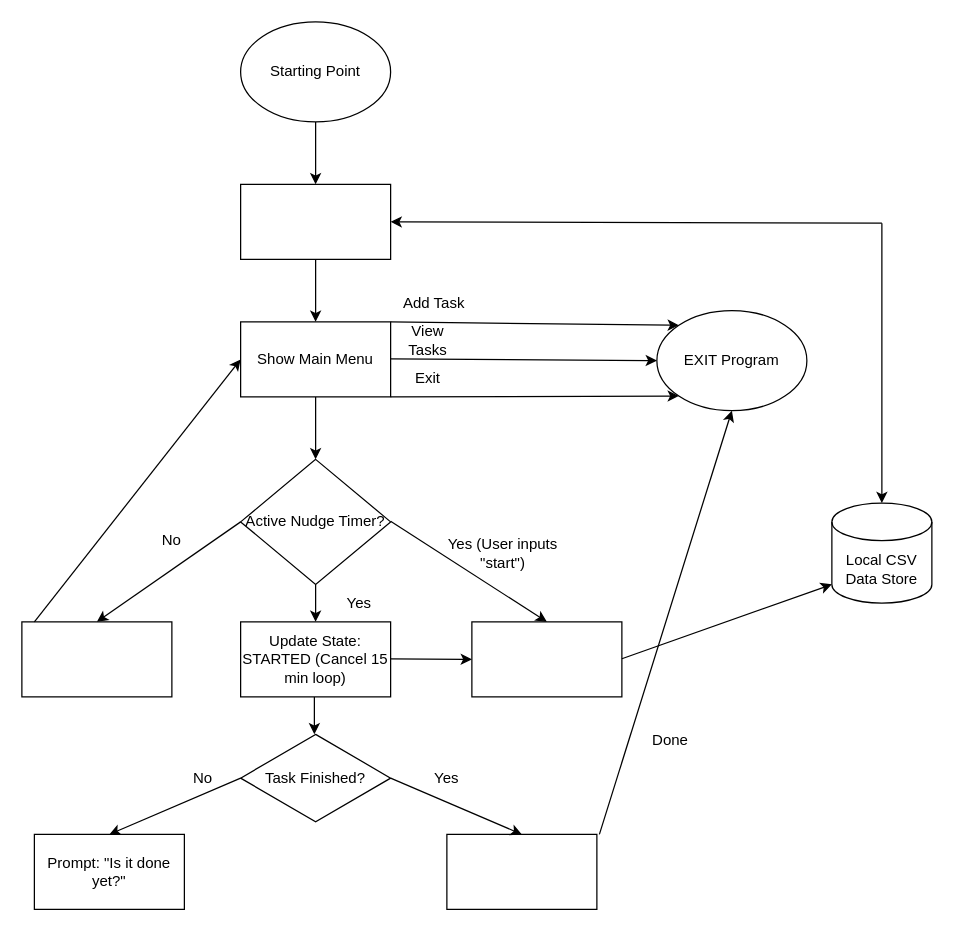
Image size: 954x931. Some labels were removed from this diagram. Each missing label, with the centre of its shape:
"Load Existing Tasks" belongs at (x=315, y=221).
"Start 1 hour Follow Up Timer" belongs at (x=546, y=659).
"Trigger 15 minute Nudge Notification (Console Ouput)" belongs at (x=96, y=659).
"Update State: COMPLETED" belongs at (x=521, y=871).
